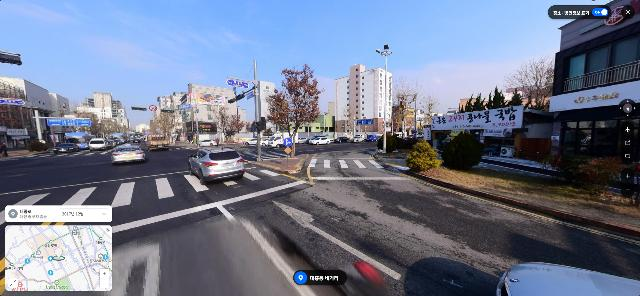other: (259, 65, 327, 159), (389, 81, 422, 137), (209, 96, 245, 145)
